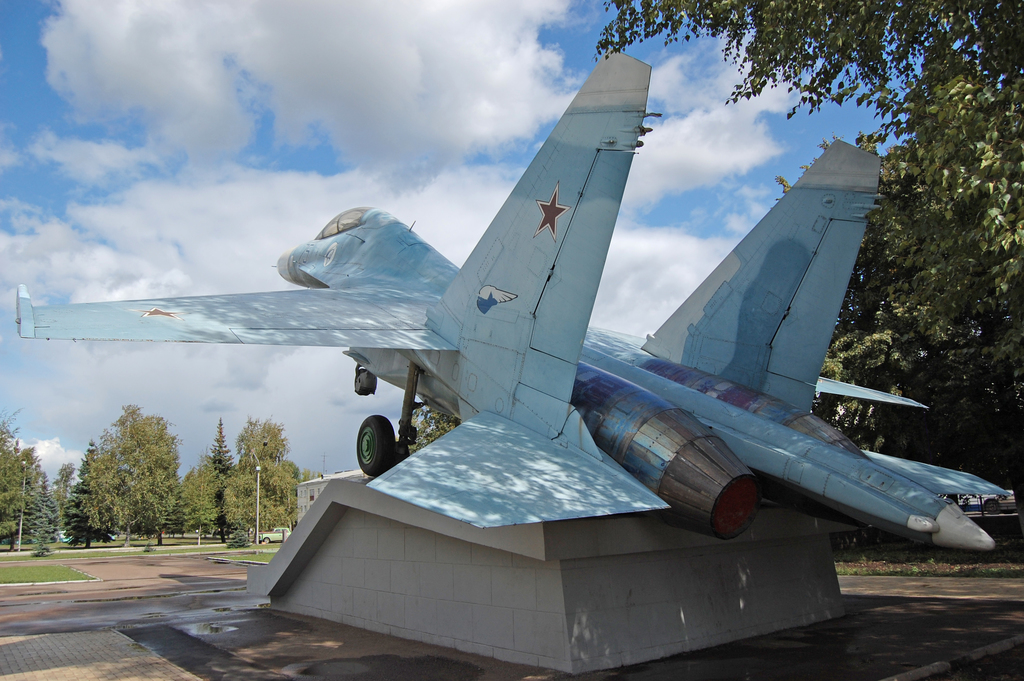Tree: (405, 0, 1024, 550), (0, 401, 324, 552)
